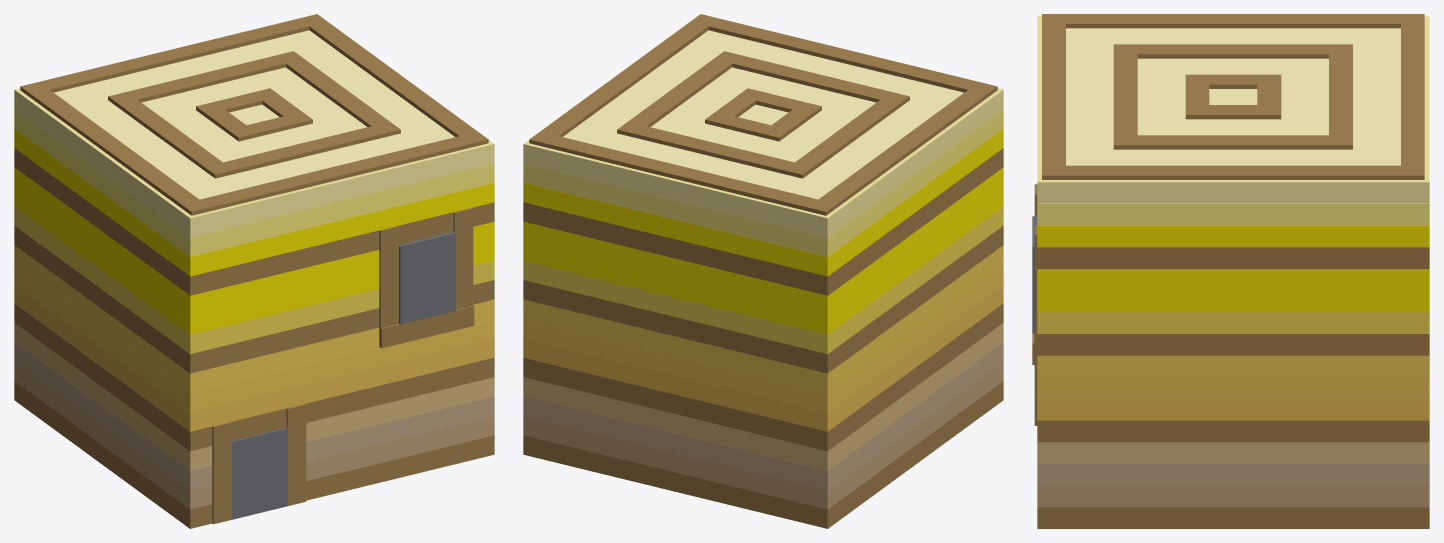
The model's file is beehive.glb.
The picture shows the model from 3 angles, left to right: view 1: azimuth 30°, elevation 25°; view 2: azimuth 150°, elevation 25°; view 3: azimuth 270°, elevation 25°; orthographic projection. The views are drawn at different scales.
Visible parts, largest first — view 1: Object_12, Object_10, Object_7, Object_9, Object_8, Object_3, Object_4, Object_11, Object_14, Object_13, Object_2, Object_6 (+1 smaller); view 2: Object_12, Object_7, Object_10, Object_9, Object_4, Object_8, Object_13, Object_14, Object_3, Object_2, Object_6, Object_5; view 3: Object_12, Object_10, Object_7, Object_9, Object_5, Object_8, Object_13, Object_2, Object_3, Object_4, Object_6, Object_14.
Part boxes in pixels (x1,y1,x2,y2): Object_12: [14, 14, 494, 528]; Object_10: [54, 30, 454, 199]; Object_7: [14, 128, 494, 334]; Object_9: [14, 88, 494, 237]; Object_8: [14, 109, 494, 256]; Object_3: [14, 284, 494, 431]; Object_4: [14, 264, 494, 412]; Object_11: [232, 231, 455, 519]; Object_14: [14, 342, 494, 489]; Object_13: [14, 361, 494, 509]; Object_2: [14, 323, 494, 470]; Object_6: [14, 206, 494, 353]; Object_12: [523, 14, 1003, 528]; Object_7: [523, 128, 1003, 334]; Object_10: [563, 30, 963, 199]; Object_9: [523, 88, 1003, 237]; Object_4: [523, 264, 1003, 412]; Object_8: [523, 109, 1003, 256]; Object_13: [523, 361, 1003, 509]; Object_14: [523, 342, 1003, 489]; Object_3: [523, 284, 1003, 431]; Object_2: [523, 323, 1003, 470]; Object_6: [523, 206, 1003, 353]; Object_5: [523, 245, 1003, 392]; Object_12: [1032, 14, 1429, 528]; Object_10: [1066, 28, 1400, 165]; Object_7: [1037, 225, 1429, 312]; Object_9: [1037, 16, 1429, 203]; Object_5: [1037, 355, 1429, 377]; Object_8: [1037, 203, 1429, 225]; Object_13: [1037, 485, 1429, 507]; Object_2: [1037, 442, 1429, 463]; Object_3: [1037, 399, 1429, 420]; Object_4: [1037, 377, 1429, 398]; Object_6: [1037, 312, 1429, 333]; Object_14: [1037, 464, 1429, 485].
Bounding box in the file's own units: 82 × 81.05 × 83.
